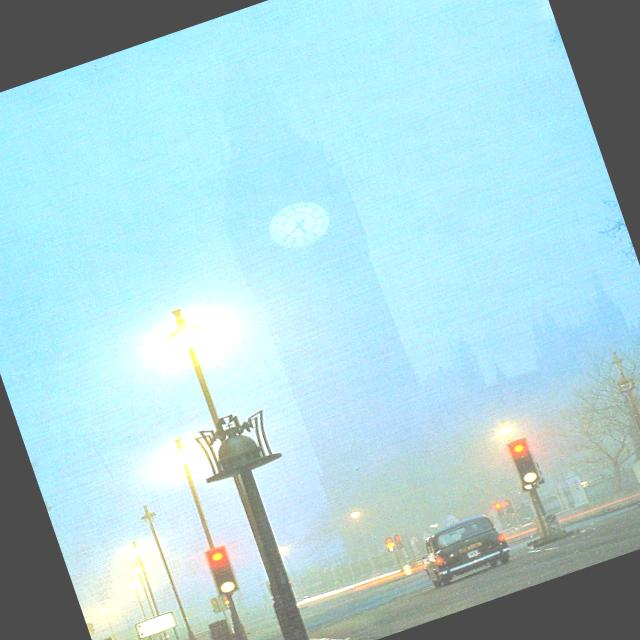Vehicle: (413, 510, 512, 590)
